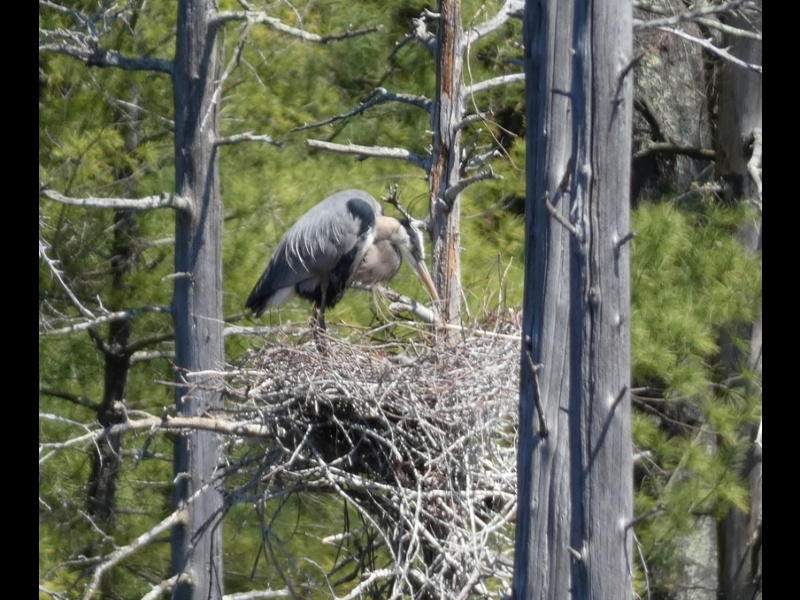heron: (244, 187, 440, 359)
